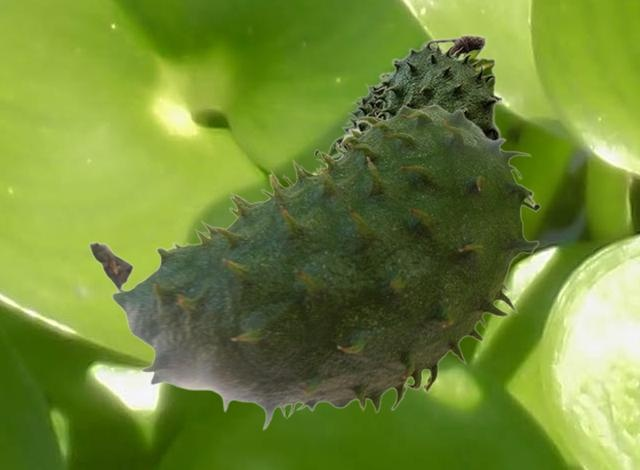guyabano: (88, 104, 540, 430), (325, 33, 502, 166)
